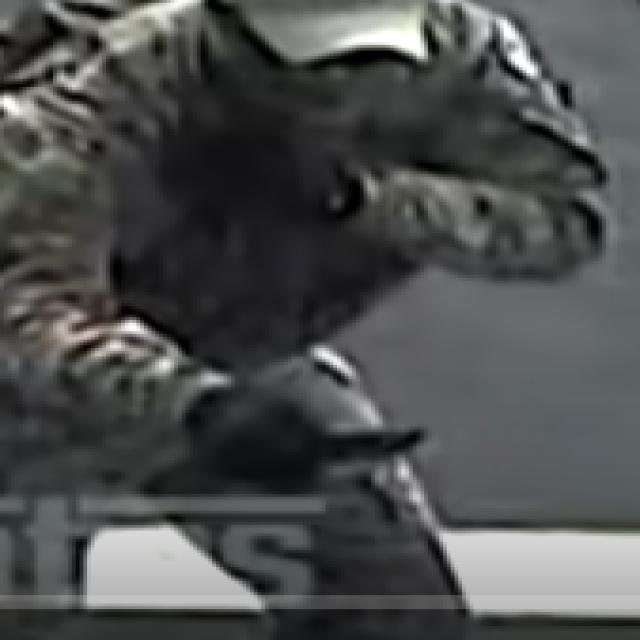Fknife: (264, 420, 436, 466)
